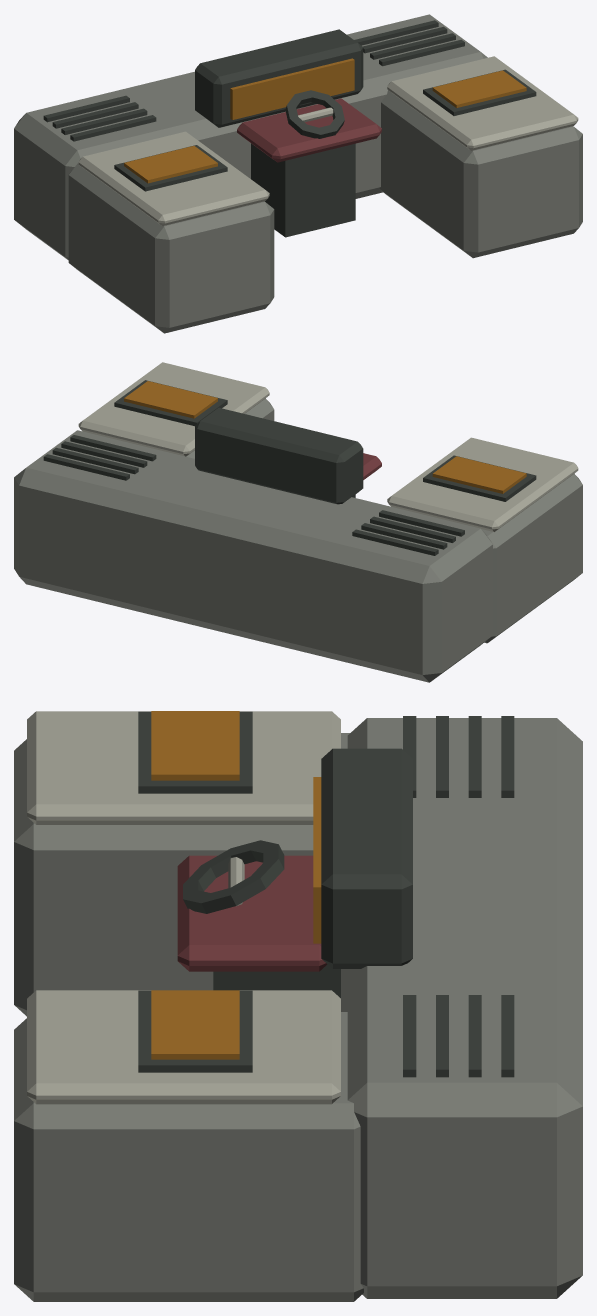
Rendered from pilot_console.obj.
The picture shows the model from 3 angles, top to bottom: view 1: azimuth 30°, elevation 25°; view 2: azimuth 150°, elevation 25°; view 3: azimuth 270°, elevation 25°; orthographic projection. The views are drawn at different scales.
Parts seen in each view (by area): view 1: pilot_console; view 2: pilot_console; view 3: pilot_console.
Boxes of the visible parts, bbox=[...] form: pilot_console: bbox=[14, 14, 582, 333]; pilot_console: bbox=[14, 362, 582, 682]; pilot_console: bbox=[14, 711, 582, 1301].
Bounding box in the file's own units: 2.8 × 1.03 × 1.74.
